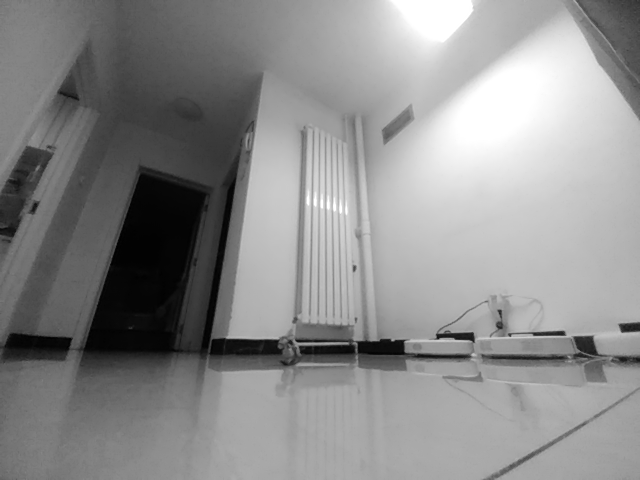toy: (277, 331, 306, 367)
